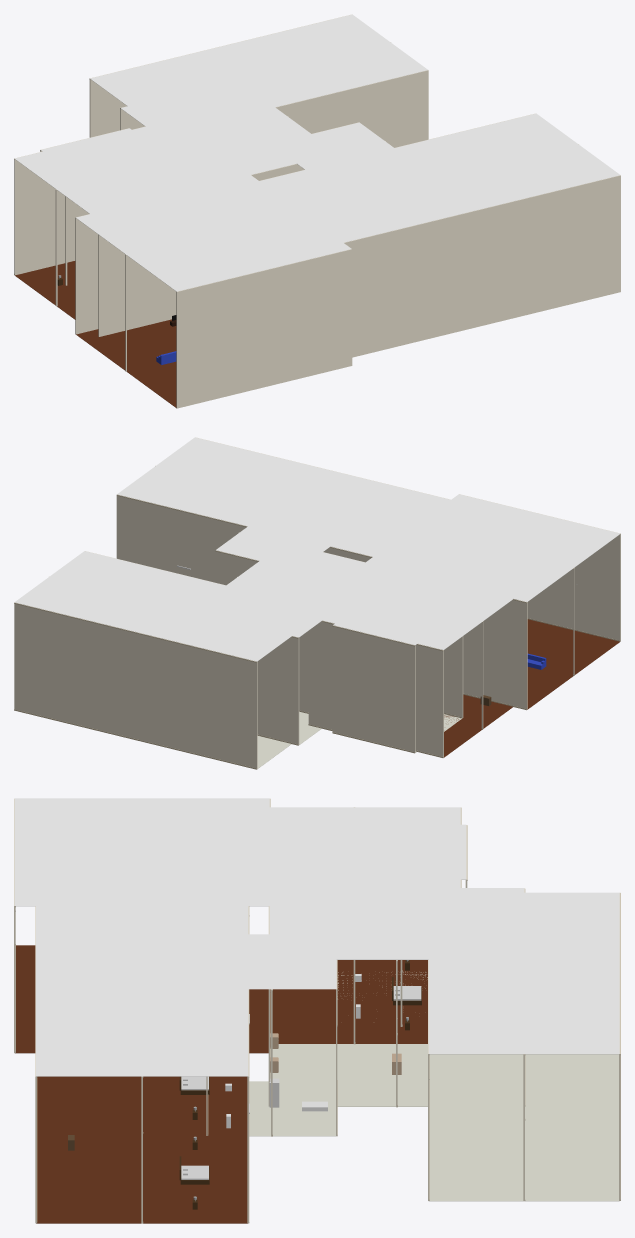
File: ultra_detailed_2331.obj
The picture shows the model from 3 angles, top to bottom: view 1: azimuth 30°, elevation 25°; view 2: azimuth 150°, elevation 25°; view 3: azimuth 270°, elevation 25°; orthographic projection. The views are drawn at different scales.
Parts seen in each view (by area): view 1: Living_Room_1_front_wall_Living_Room_1_front_wall_material, Bedroom_2_front_wall_Bedroom_2_front_wall_material, Living_Room_1_ceiling_Living_Room_1_ceiling_material, Bedroom_1_front_wall_Bedroom_1_front_wall_material, Bedroom_2_ceiling_Bedroom_2_ceiling_material, Bedroom_3_ceiling_Bedroom_3_ceiling_material, Bedroom_1_ceiling_Bedroom_1_ceiling_material, Kitchen_1_ceiling_Kitchen_1_ceiling_material, Utility_Room_1_ceiling_Utility_Room_1_ceiling_material, Dining_Room_1_ceiling_Dining_Room_1_ceiling_material, Utility_Room_1_front_wall_Utility_Room_1_front_wall_material, Bedroom_3_back_wall_Bedroom_3_back_wall_material (+7 smaller); view 2: Living_Room_1_ceiling_Living_Room_1_ceiling_material, Dining_Room_1_back_wall_Dining_Room_1_back_wall_material, Utility_Room_1_back_wall_Utility_Room_1_back_wall_material, Bedroom_2_ceiling_Bedroom_2_ceiling_material, Bedroom_1_ceiling_Bedroom_1_ceiling_material, Bedroom_3_ceiling_Bedroom_3_ceiling_material, Kitchen_1_ceiling_Kitchen_1_ceiling_material, Bathroom_2_back_wall_Bathroom_2_back_wall_material, Utility_Room_1_ceiling_Utility_Room_1_ceiling_material, Bedroom_2_back_wall_Bedroom_2_back_wall_material, Dining_Room_1_ceiling_Dining_Room_1_ceiling_material, Living_Room_1_front_wall_Living_Room_1_front_wall_material (+11 smaller); view 3: Living_Room_1_ceiling_Living_Room_1_ceiling_material, Bedroom_2_ceiling_Bedroom_2_ceiling_material, Bedroom_2_floor_Bedroom_2_floor_material, Kitchen_1_ceiling_Kitchen_1_ceiling_material, Utility_Room_1_ceiling_Utility_Room_1_ceiling_material, Bedroom_1_ceiling_Bedroom_1_ceiling_material, Utility_Room_1_floor_Utility_Room_1_floor_material, Bedroom_3_ceiling_Bedroom_3_ceiling_material, Kitchen_1_floor_Kitchen_1_floor_material, Bedroom_1_floor_Bedroom_1_floor_material, Bedroom_3_floor_Bedroom_3_floor_material, Dining_Room_1_floor_Dining_Room_1_floor_material (+5 smaller).
Part boxes in pixels (left/top/right/bottom): Living_Room_1_front_wall_Living_Room_1_front_wall_material: left=176, top=249, right=352, bottom=408; Bedroom_2_front_wall_Bedroom_2_front_wall_material: left=475, top=175, right=620, bottom=327; Living_Room_1_ceiling_Living_Room_1_ceiling_material: left=76, top=175, right=351, bottom=291; Bedroom_1_front_wall_Bedroom_1_front_wall_material: left=344, top=211, right=474, bottom=357; Bedroom_2_ceiling_Bedroom_2_ceiling_material: left=391, top=113, right=620, bottom=210; Bedroom_3_ceiling_Bedroom_3_ceiling_material: left=15, top=123, right=243, bottom=219; Bedroom_1_ceiling_Bedroom_1_ceiling_material: left=245, top=149, right=474, bottom=244; Kitchen_1_ceiling_Kitchen_1_ceiling_material: left=121, top=80, right=337, bottom=178; Utility_Room_1_ceiling_Utility_Room_1_ceiling_material: left=221, top=14, right=427, bottom=101; Dining_Room_1_ceiling_Dining_Room_1_ceiling_material: left=90, top=46, right=296, bottom=130; Utility_Room_1_front_wall_Utility_Room_1_front_wall_material: left=297, top=70, right=428, bottom=147; Bedroom_3_back_wall_Bedroom_3_back_wall_material: left=14, top=126, right=144, bottom=275; Living_Room_1_ceiling_Living_Room_1_ceiling_material: left=366, top=494, right=620, bottom=601; Dining_Room_1_back_wall_Dining_Room_1_back_wall_material: left=135, top=632, right=257, bottom=768; Utility_Room_1_back_wall_Utility_Room_1_back_wall_material: left=14, top=602, right=135, bottom=738; Bedroom_2_ceiling_Bedroom_2_ceiling_material: left=117, top=437, right=329, bottom=526; Bedroom_1_ceiling_Bedroom_1_ceiling_material: left=252, top=470, right=464, bottom=559; Bedroom_3_ceiling_Bedroom_3_ceiling_material: left=309, top=560, right=520, bottom=649; Kitchen_1_ceiling_Kitchen_1_ceiling_material: left=191, top=543, right=391, bottom=637; Bathroom_2_back_wall_Bathroom_2_back_wall_material: left=332, top=625, right=415, bottom=752; Utility_Room_1_ceiling_Utility_Room_1_ceiling_material: left=15, top=551, right=205, bottom=631; Bedroom_2_back_wall_Bedroom_2_back_wall_material: left=116, top=494, right=247, bottom=582; Dining_Room_1_ceiling_Dining_Room_1_ceiling_material: left=136, top=580, right=326, bottom=661; Living_Room_1_front_wall_Living_Room_1_front_wall_material: left=459, top=494, right=620, bottom=641; Living_Room_1_ceiling_Living_Room_1_ceiling_material: left=14, top=798, right=269, bottom=906; Bedroom_2_ceiling_Bedroom_2_ceiling_material: left=36, top=986, right=248, bottom=1076; Bedroom_2_floor_Bedroom_2_floor_material: left=36, top=1133, right=247, bottom=1223; Kitchen_1_ceiling_Kitchen_1_ceiling_material: left=269, top=888, right=524, bottom=959; Utility_Room_1_ceiling_Utility_Room_1_ceiling_material: left=428, top=973, right=619, bottom=1054; Bedroom_1_ceiling_Bedroom_1_ceiling_material: left=36, top=906, right=248, bottom=986; Utility_Room_1_floor_Utility_Room_1_floor_material: left=429, top=1120, right=619, bottom=1201; Bedroom_3_ceiling_Bedroom_3_ceiling_material: left=249, top=807, right=460, bottom=894; Kitchen_1_floor_Kitchen_1_floor_material: left=270, top=1044, right=523, bottom=1106; Bedroom_1_floor_Bedroom_1_floor_material: left=37, top=1076, right=247, bottom=1133; Bedroom_3_floor_Bedroom_3_floor_material: left=249, top=960, right=427, bottom=1043; Dining_Room_1_floor_Dining_Room_1_floor_material: left=429, top=1054, right=618, bottom=1120.
Bounding box in the file's own units: 40.69 × 10.37 × 37.45.
